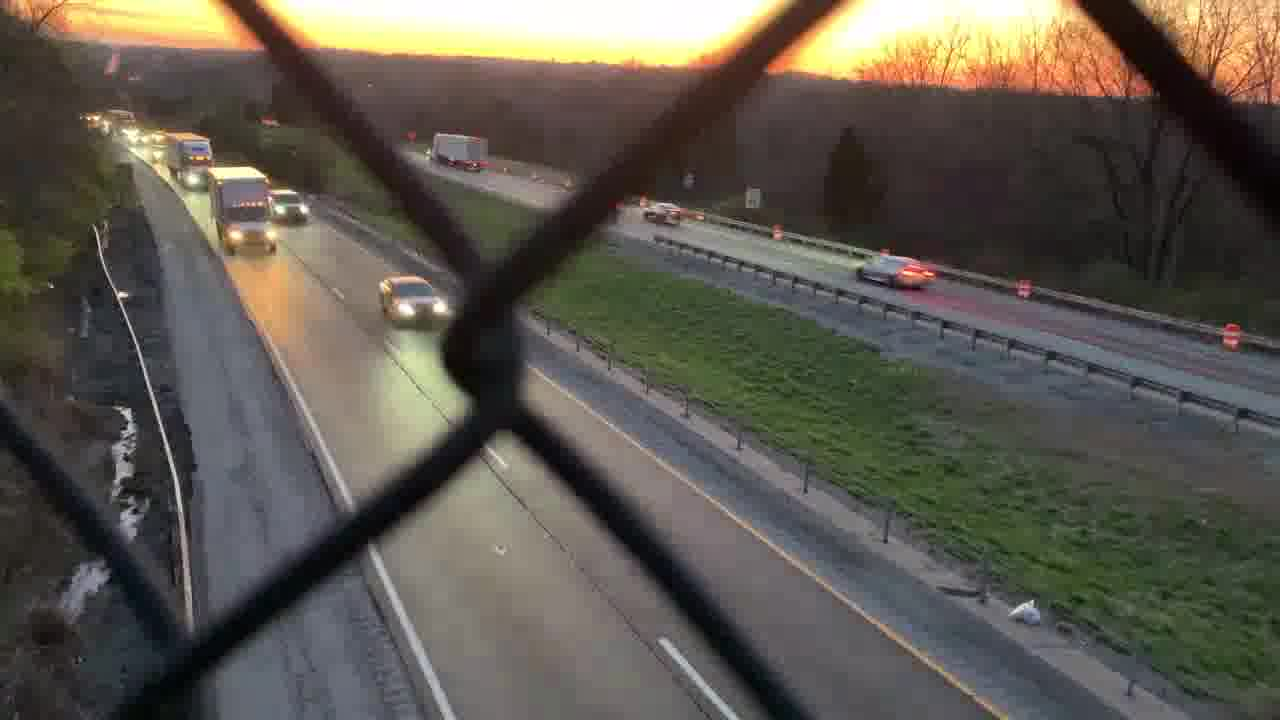heavyTruck: (201, 162, 277, 267), (422, 133, 497, 172), (164, 136, 217, 189)
smallCar: (377, 273, 444, 325), (854, 243, 929, 287)
